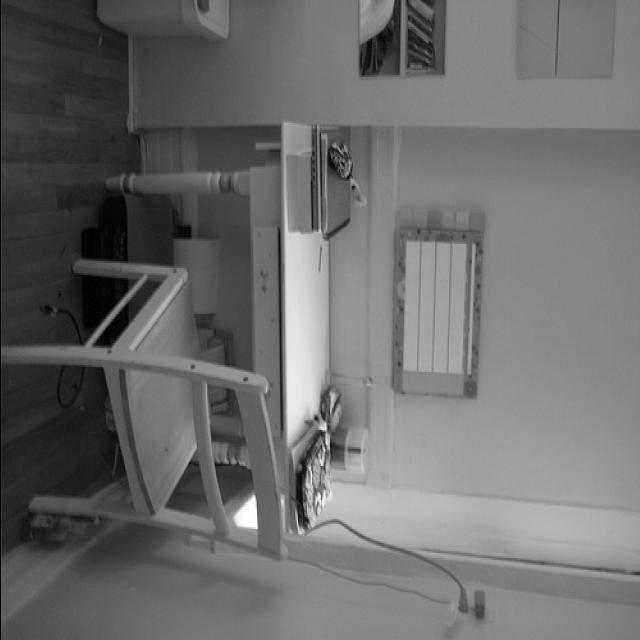chair: (4, 257, 286, 564)
